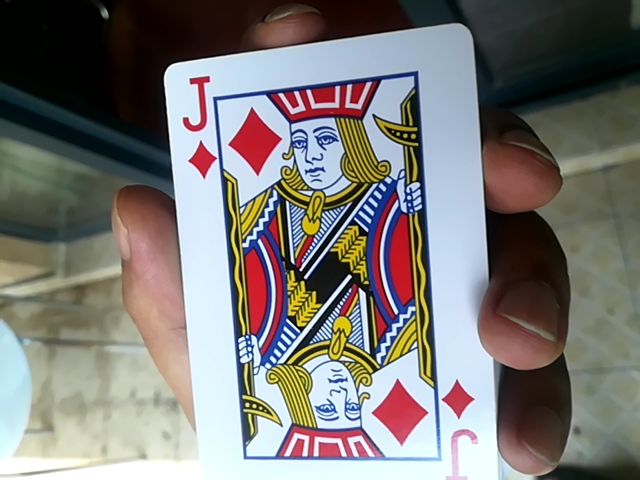fk j: (151, 28, 482, 480)
